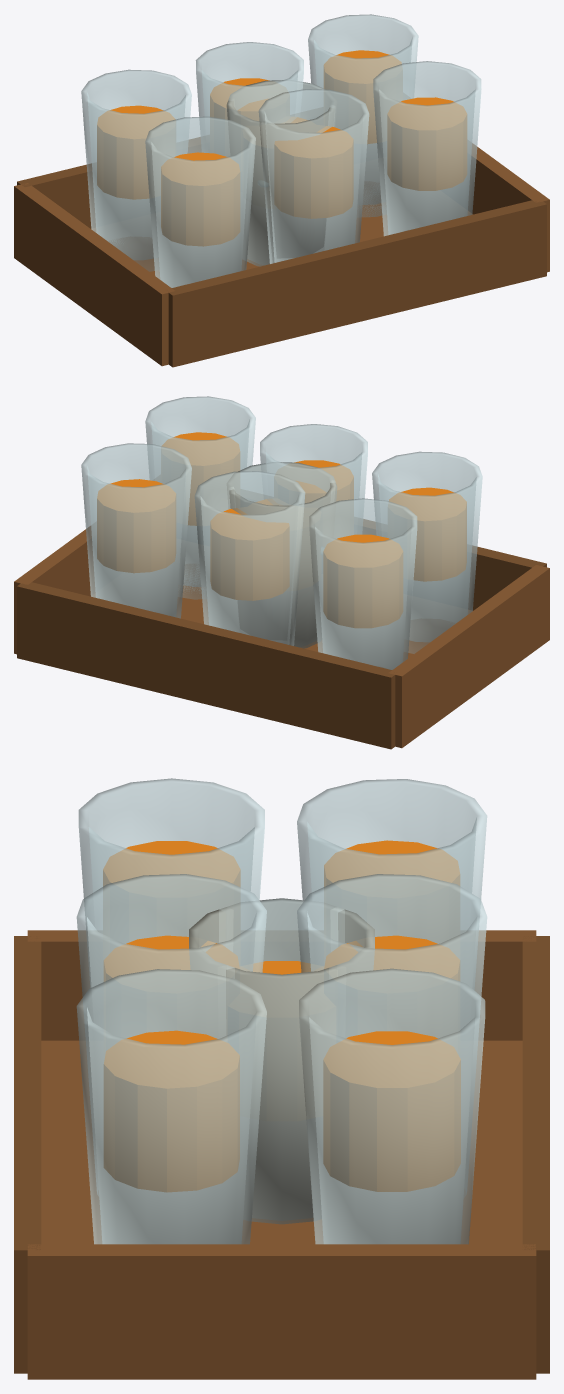
The model's file is Drink_FruitJuice.fbx.
The picture shows the model from 3 angles, top to bottom: view 1: azimuth 30°, elevation 25°; view 2: azimuth 150°, elevation 25°; view 3: azimuth 270°, elevation 25°; orthographic projection. The views are drawn at different scales.
Visible parts, largest first — view 1: Drink_FruitJuice__Stack, Drink_FruitJuice, Drink_FruitJuice__Rotten; view 2: Drink_FruitJuice__Stack, Drink_FruitJuice, Drink_FruitJuice__Rotten; view 3: Drink_FruitJuice__Stack, Drink_FruitJuice, Drink_FruitJuice__Rotten.
Part boxes in pixels (x1,y1,x2,y2): Drink_FruitJuice__Stack: [14, 14, 549, 367]; Drink_FruitJuice: [226, 80, 335, 266]; Drink_FruitJuice__Rotten: [227, 80, 334, 265]; Drink_FruitJuice__Stack: [14, 396, 549, 749]; Drink_FruitJuice: [228, 462, 337, 648]; Drink_FruitJuice__Rotten: [229, 462, 336, 647]; Drink_FruitJuice__Stack: [14, 778, 549, 1379]; Drink_FruitJuice: [189, 898, 374, 1224]; Drink_FruitJuice__Rotten: [189, 898, 374, 1223].
Size of the model in its own units: 0.226 by 0.098 by 0.1572.
